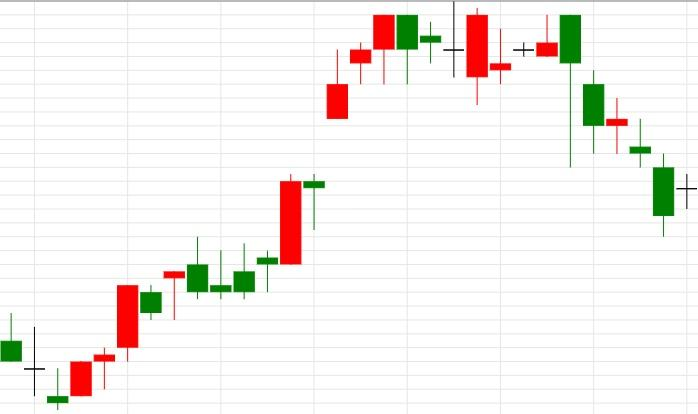bearish_engulfing_fall: (279, 15, 418, 264), (466, 8, 582, 168)
